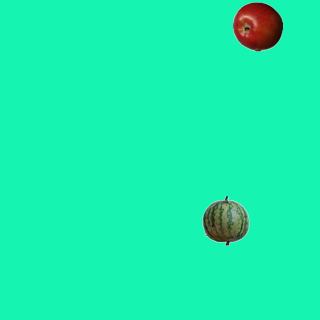Apple Braeburn: (232, 1, 282, 51)
Watermelon: (200, 195, 250, 245)
